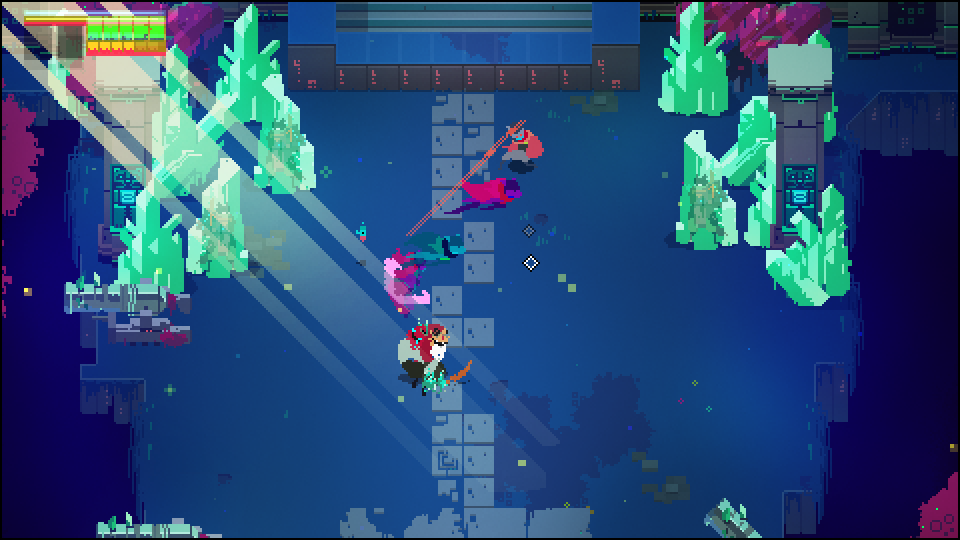hanged_man: (392, 315, 473, 395)
player: (495, 125, 547, 173)
